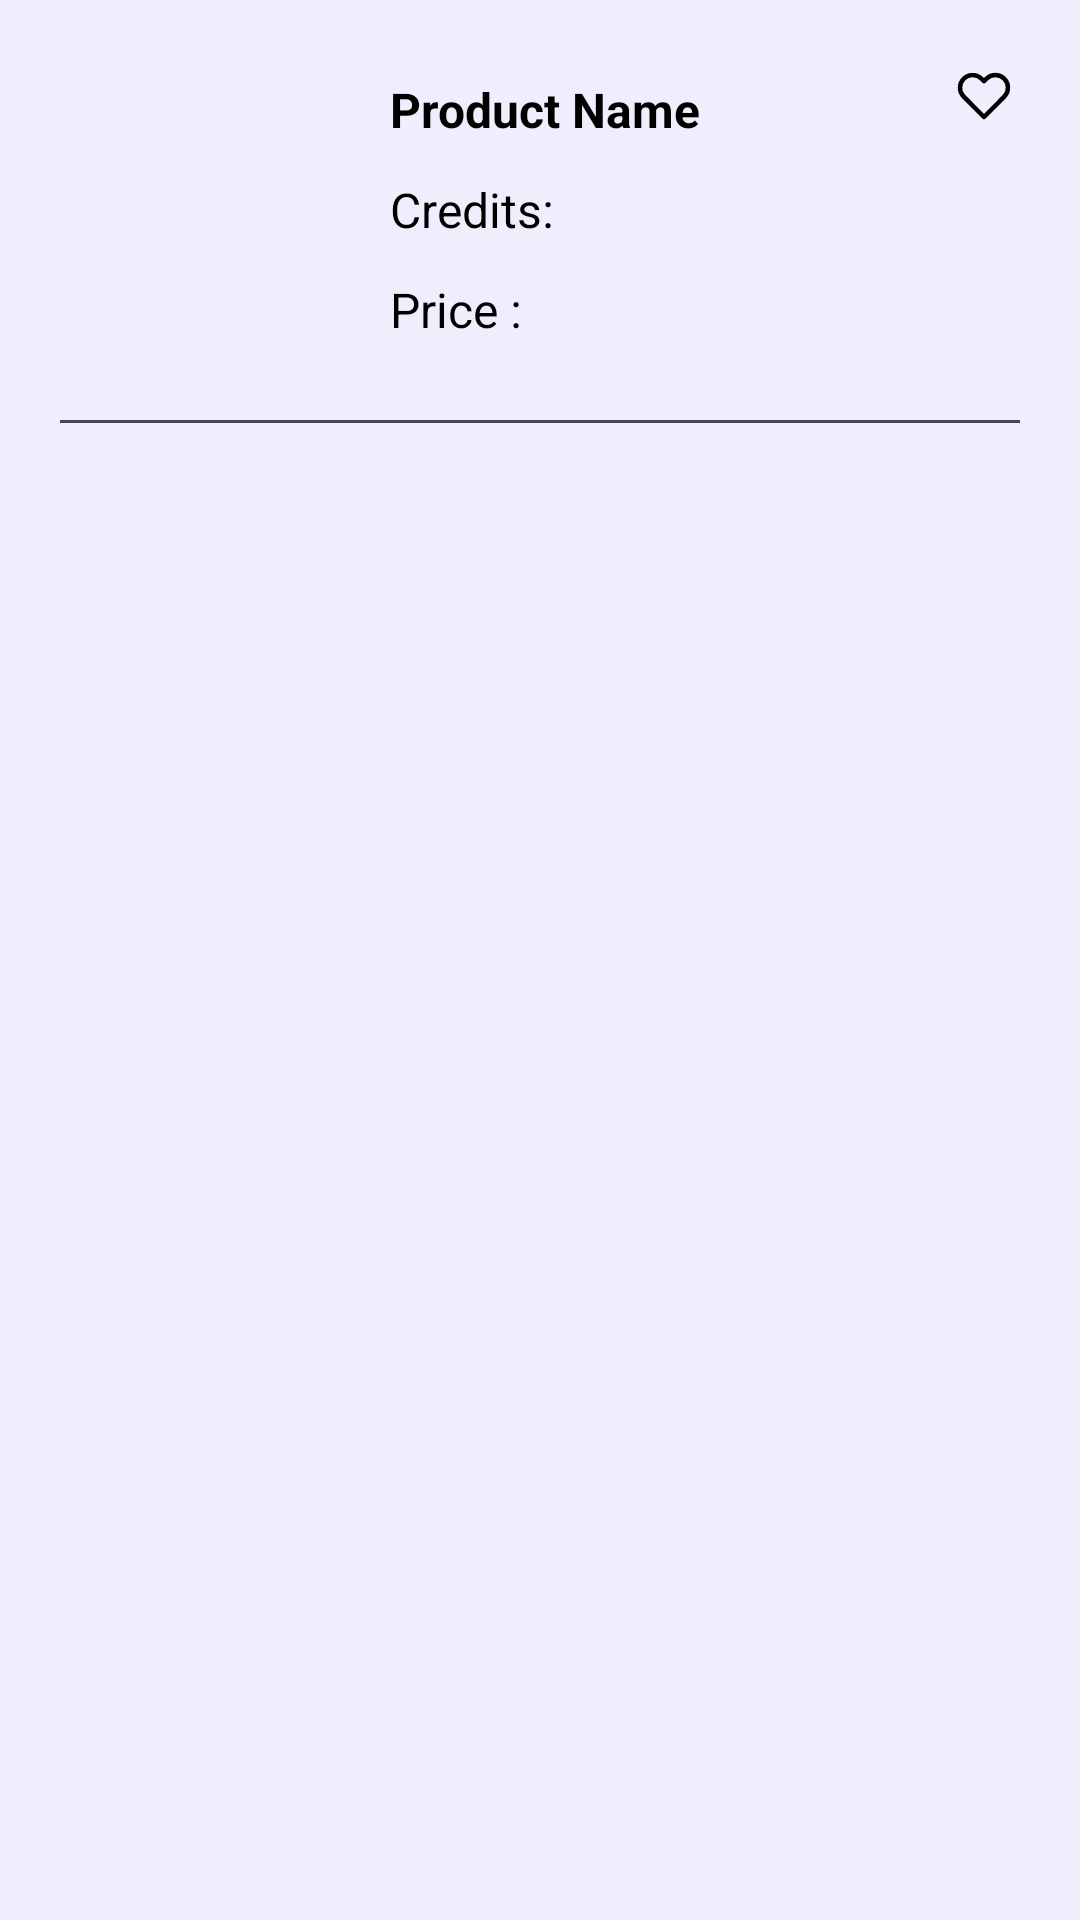

Screen size 1080*1920. Icon name, then its box in pixels as {"x1": x1, "y1": y1, "x2": x2, "y2": y2}:
heart: {"x1": 957, "y1": 72, "x2": 1011, "y2": 120}
